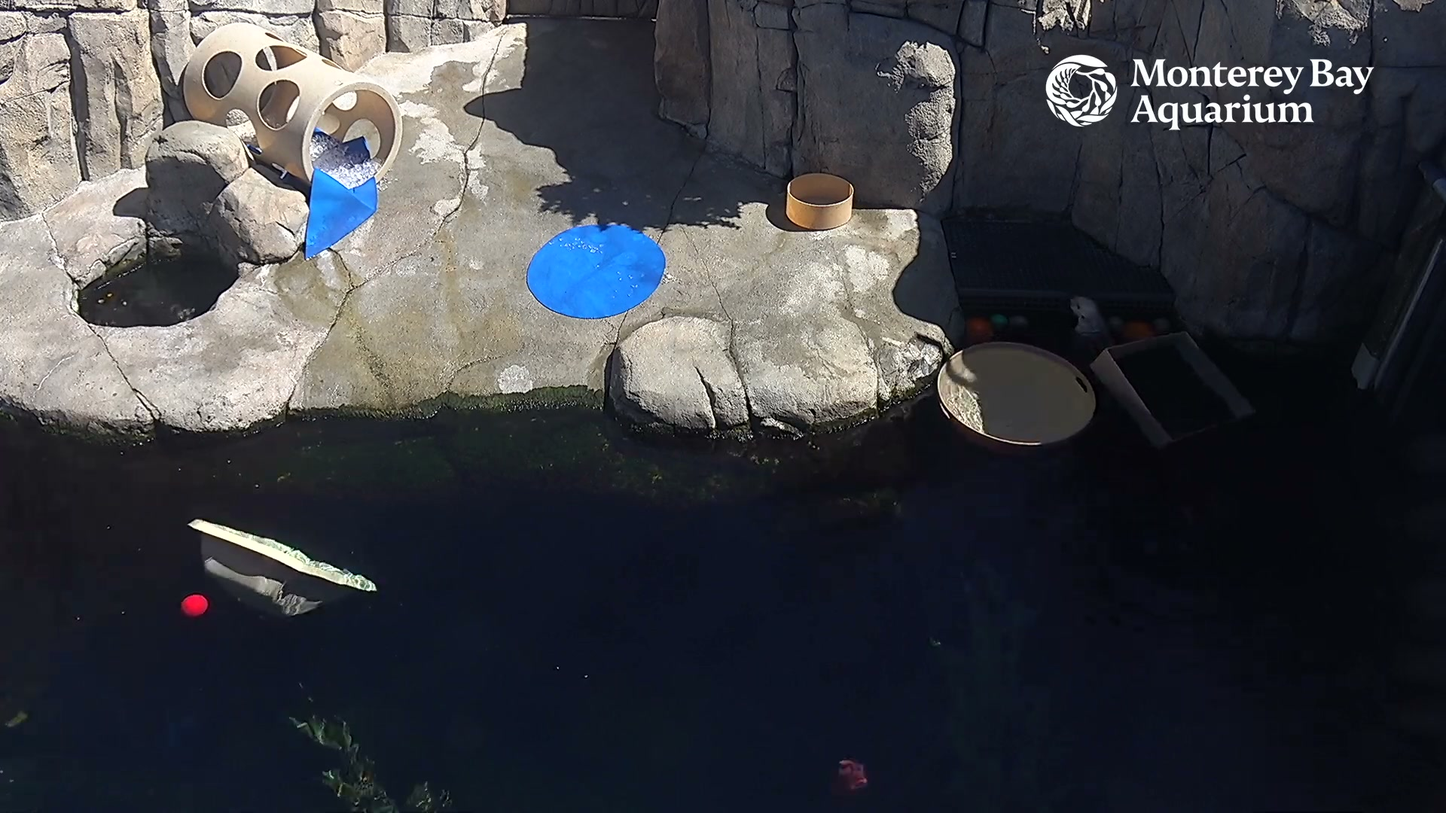Southern Sea Otter: (1050, 281, 1144, 401)
